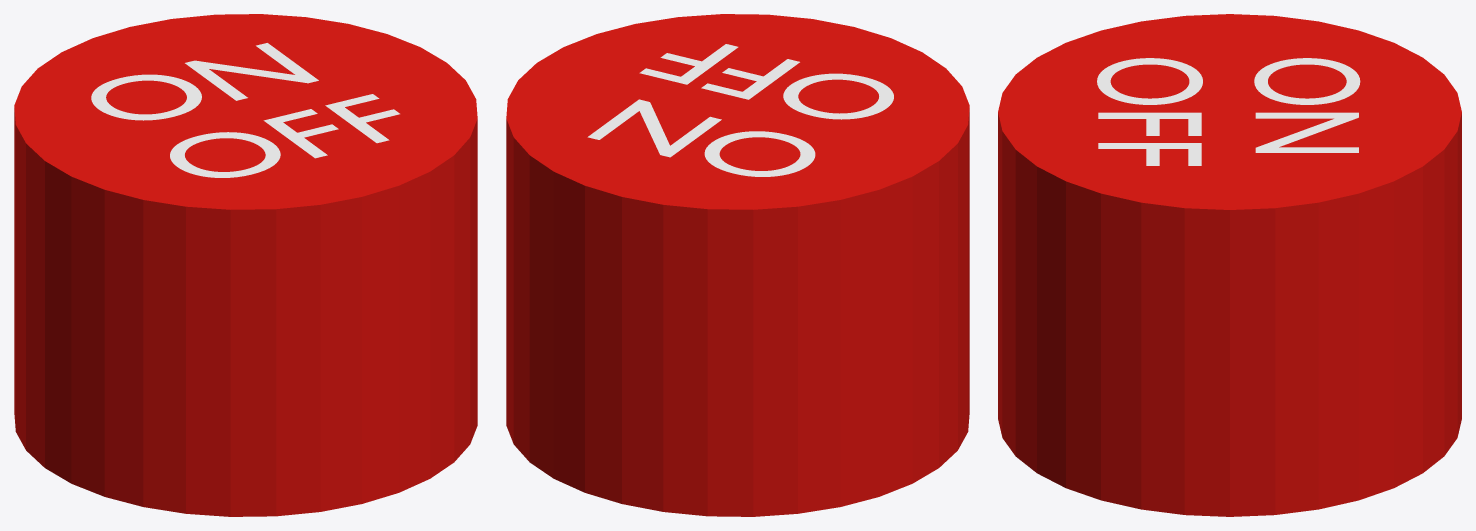
File: onOffGumb.fbx
The picture shows the model from 3 angles, left to right: view 1: azimuth 30°, elevation 25°; view 2: azimuth 150°, elevation 25°; view 3: azimuth 270°, elevation 25°; orthographic projection.
Visible parts, largest first — view 1: Cylinder, Text.001, Text; view 2: Cylinder, Text.001, Text; view 3: Cylinder, Text.001, Text.
Boxes of the visible parts, left/top/right/bottom form: Cylinder: left=14, top=14, right=477, bottom=516; Text.001: left=170, top=94, right=399, bottom=177; Text: left=91, top=43, right=318, bottom=120; Cylinder: left=506, top=14, right=969, bottom=516; Text.001: left=639, top=44, right=893, bottom=119; Text: left=587, top=99, right=815, bottom=176; Cylinder: left=998, top=14, right=1461, bottom=516; Text.001: left=1097, top=58, right=1202, bottom=165; Text: left=1254, top=58, right=1360, bottom=152.
Size of the model in its own units: 177 by 130 by 177.
